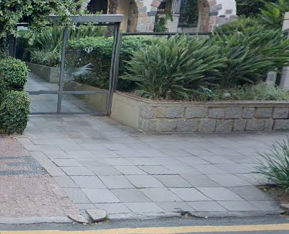vag16: (86, 167, 260, 229)
vag17: (1, 169, 66, 230)
